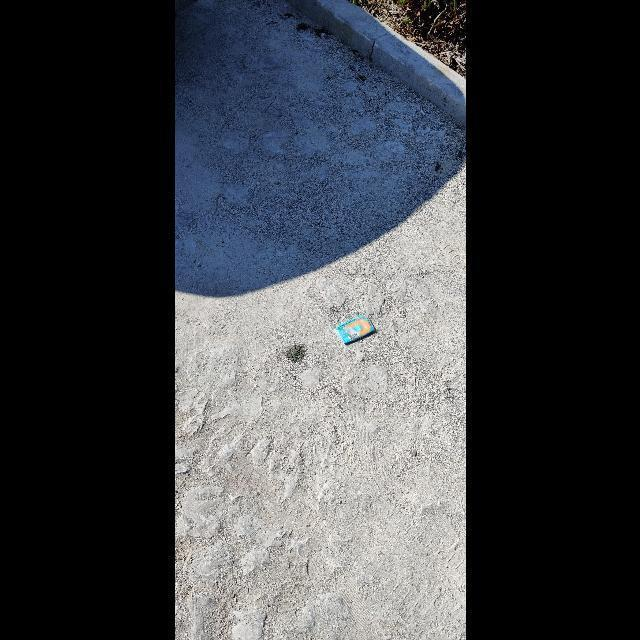Plastic: (334, 315, 374, 343)
